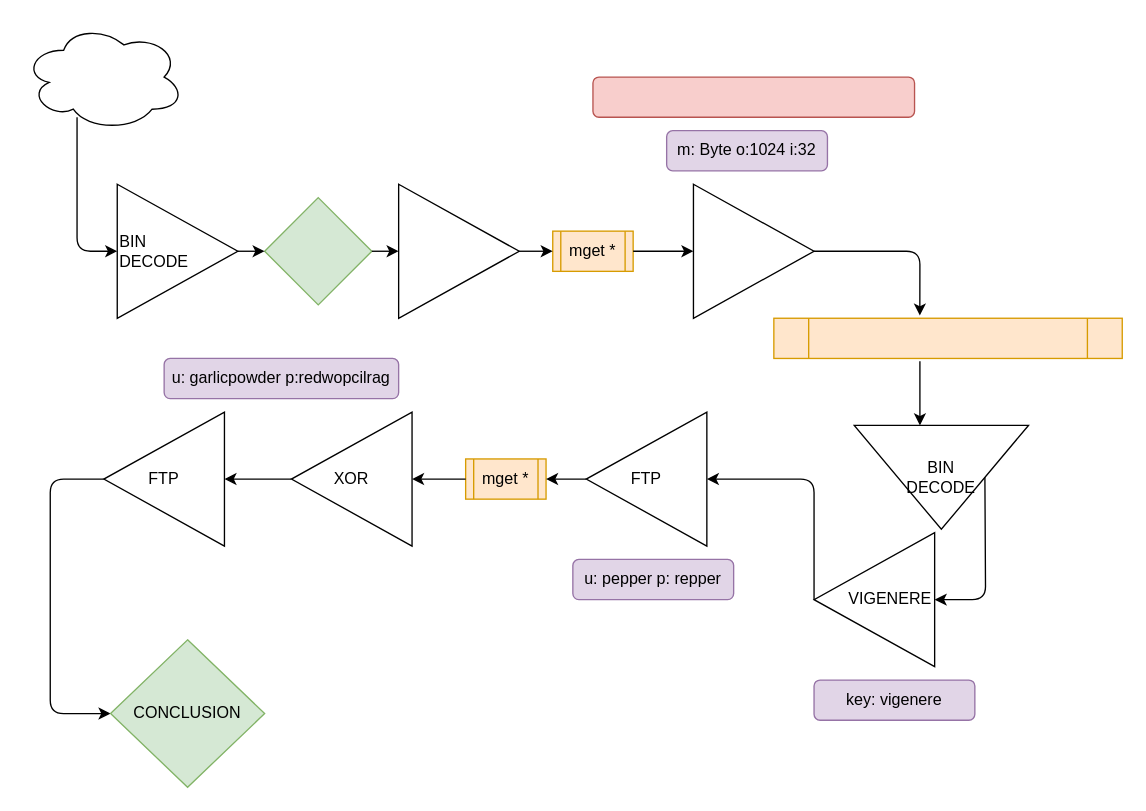
This 1146x811 diagram has some shape labels left out. The centre of each missing label's shape, as x and y in pixels:
cat output | grep -Po -a "[01]" | tr -d '\n': the point at 947,337
e5532426b580be8ec82f0ab2f4fd4433.bmp: the point at 753,96
MODIFY TIMELOCK: the point at 458,250
MOODLE: the point at 103,76
NOTE 0: the point at 317,250
STEG MAGIC: the point at 753,250
